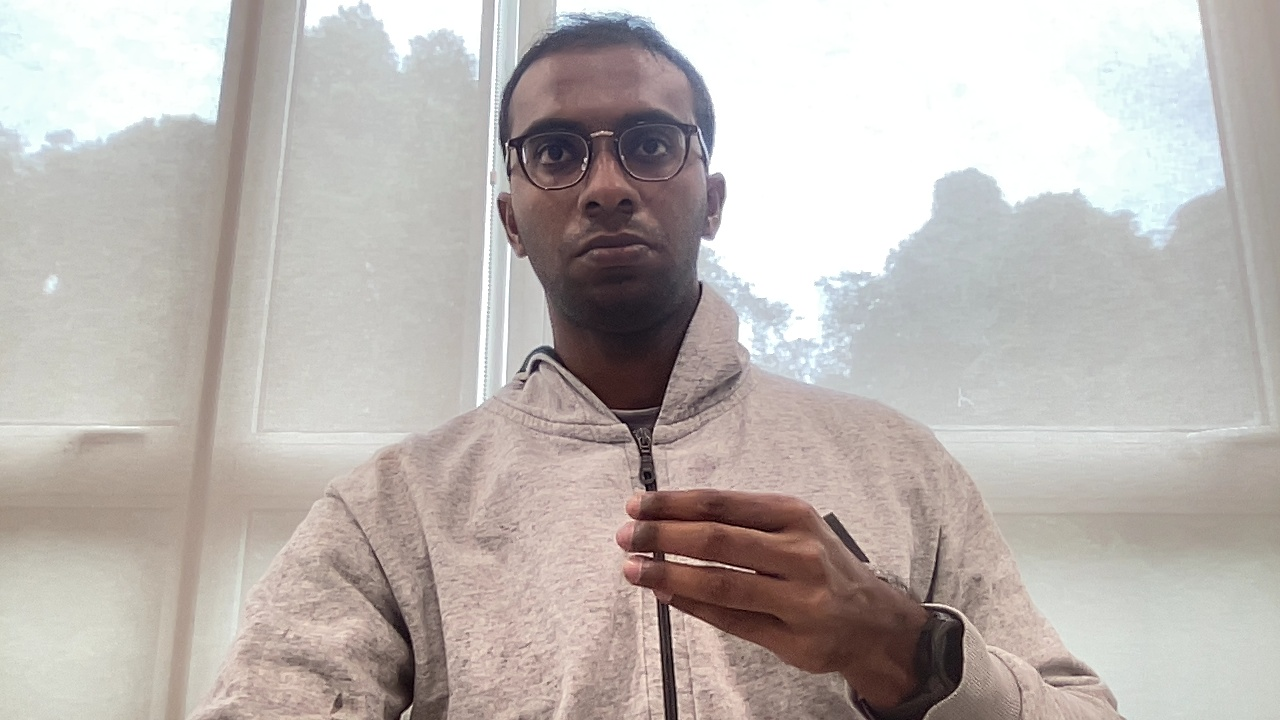drink: (610, 478, 888, 682)
